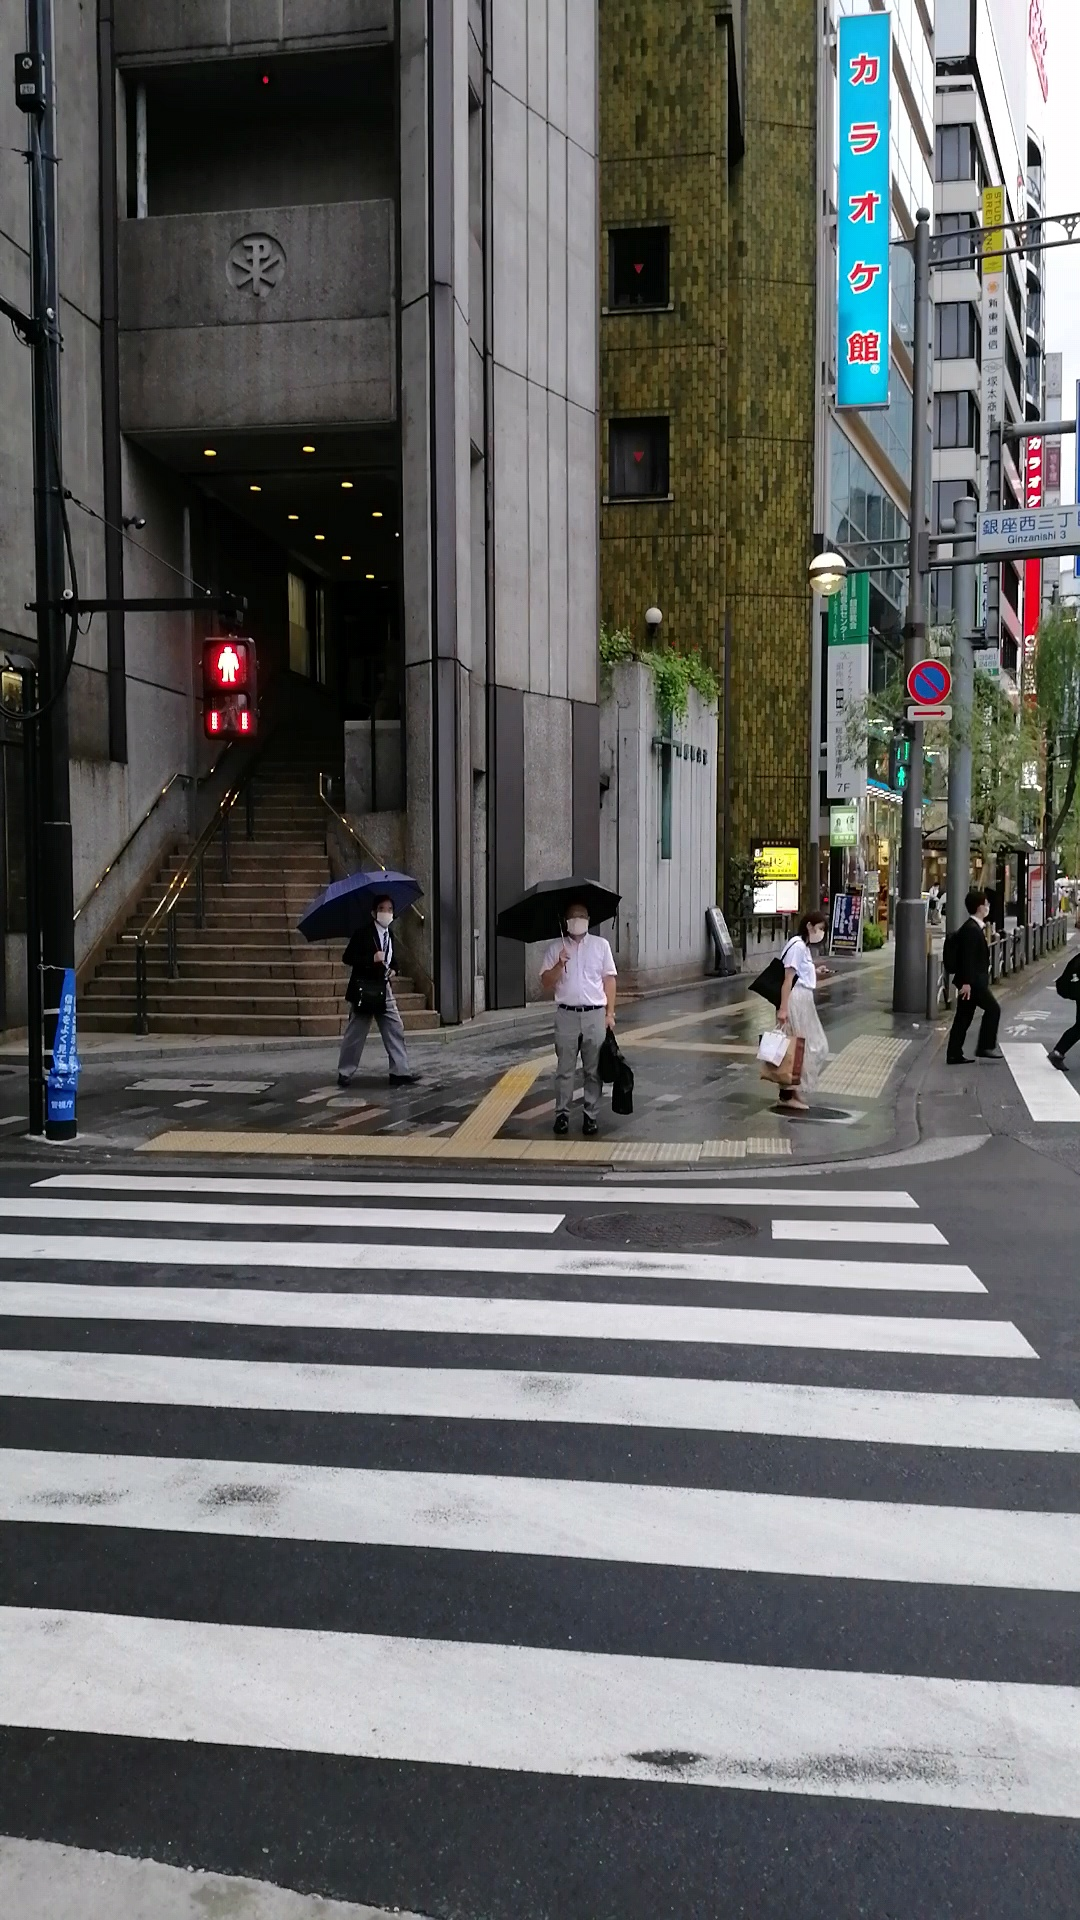red: (200, 636, 258, 741)
